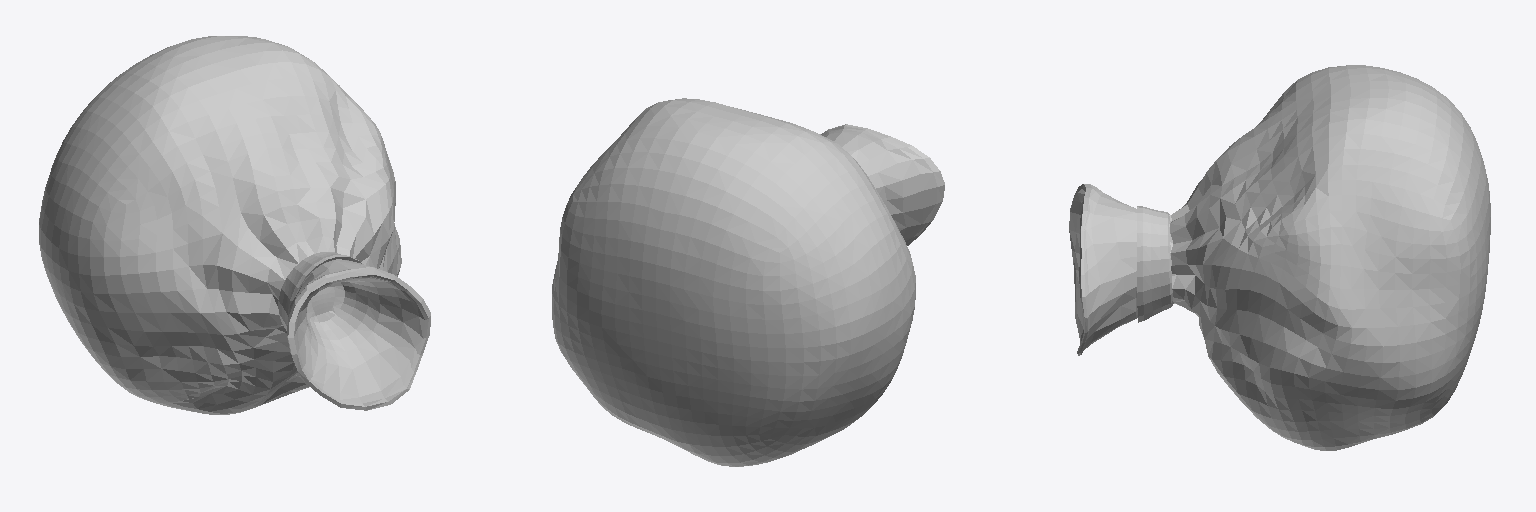
The model's file is defaultMaterial.002.obj.
The picture shows the model from 3 angles: view 1: azimuth 30°, elevation 25°; view 2: azimuth 150°, elevation 25°; view 3: azimuth 270°, elevation 25°; orthographic projection.
Visible parts, largest first — view 1: defaultMaterial.002; view 2: defaultMaterial.002; view 3: defaultMaterial.002.
Boxes of the visible parts, x1=… form: defaultMaterial.002: x1=39, y1=36, x2=430, y2=414; defaultMaterial.002: x1=552, y1=98, x2=944, y2=466; defaultMaterial.002: x1=1069, y1=65, x2=1490, y2=450.
Size of the model in its own units: 0.264 by 0.2669 by 0.2986.